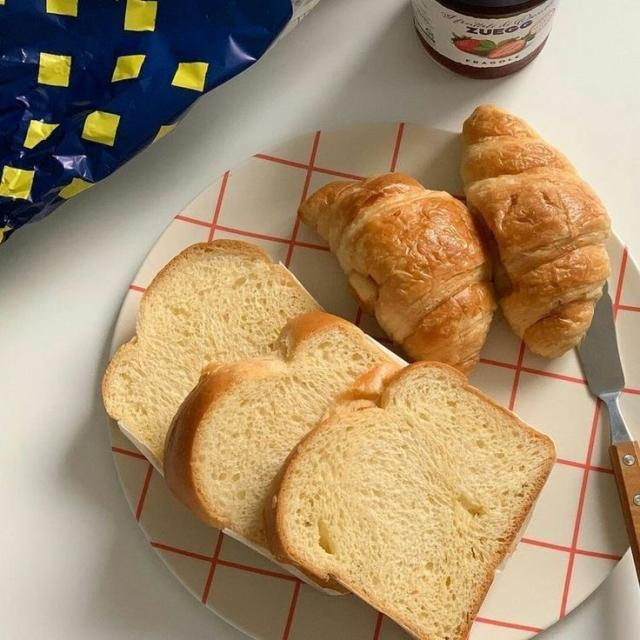sliced_bread: (265, 363, 554, 639), (163, 311, 392, 554), (102, 239, 323, 467)
